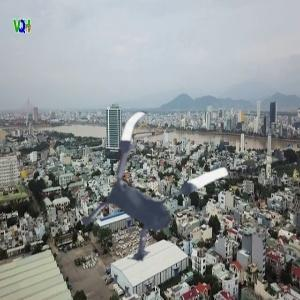drone: (65, 109, 240, 284)
